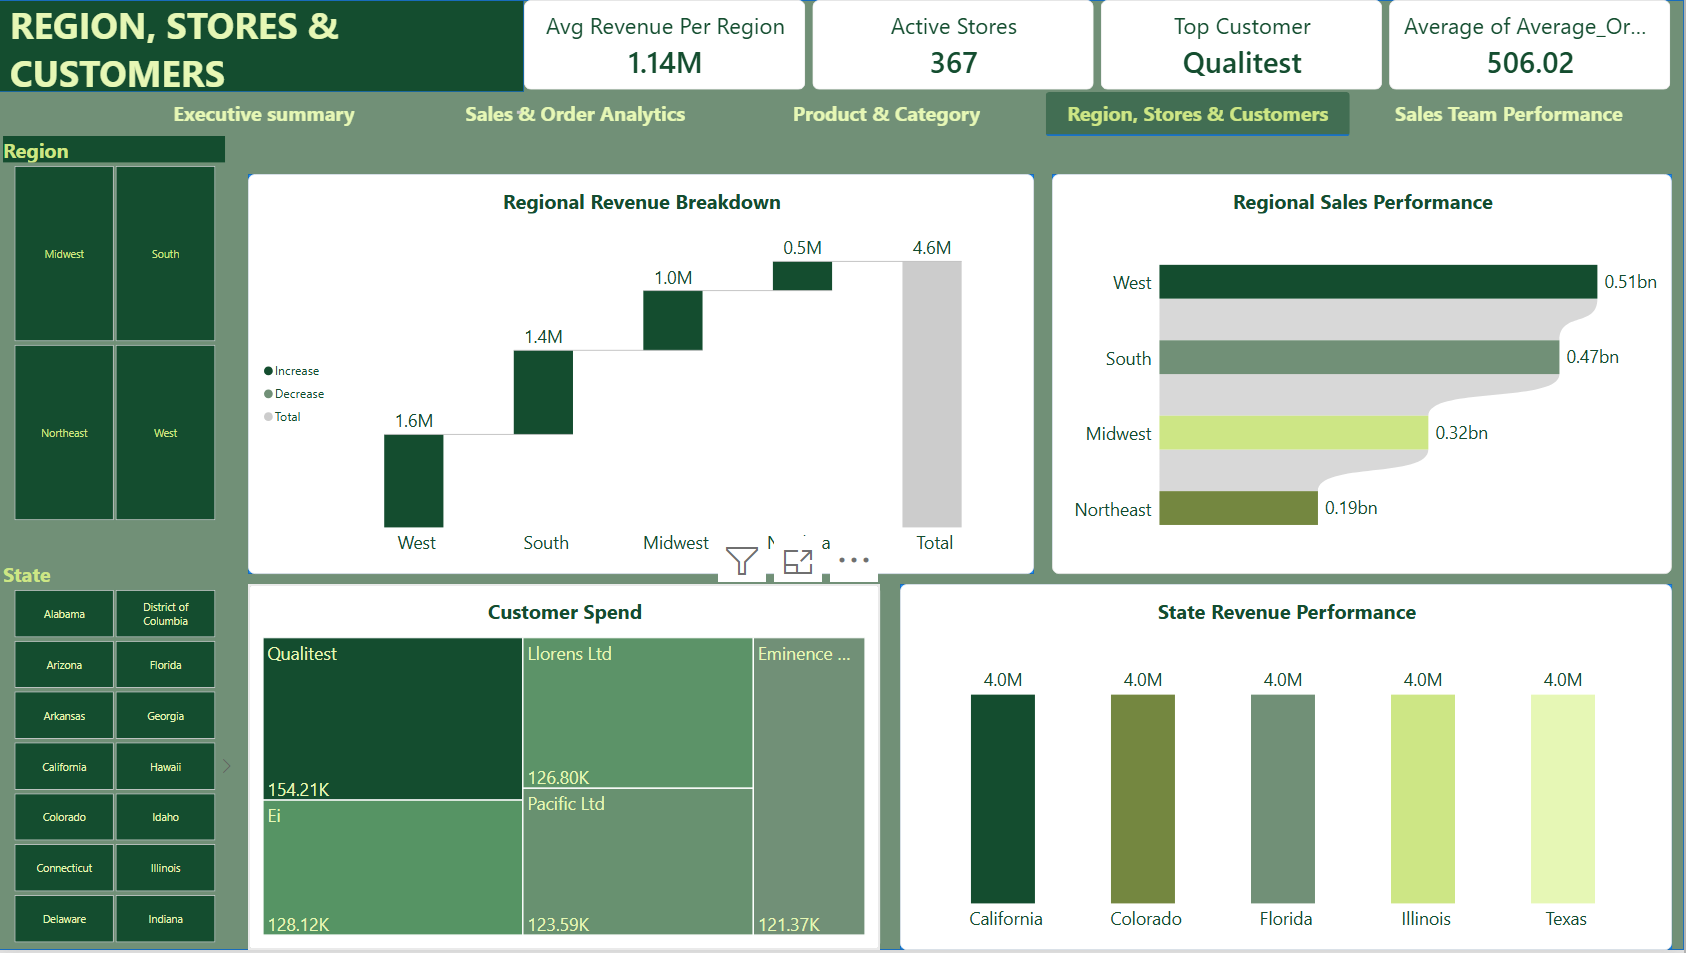

The dashboard page shown, as its layout file describes it:
{"tool":"powerbi","page":{"name":"Region, Stores & Customers","canvas":[1920,1080],"ordinal":3},"visuals":[{"type":"shape","box":[0,0,1920,1080.6],"z":0},{"type":"shape","box":[286.6,197.9,894,455],"z":1000},{"type":"shape","box":[1028.1,664.8,878.4,415.2],"z":2000},{"type":"shape","box":[1201.1,197.9,705.2,439.1],"z":3000},{"type":"shape","box":[287.5,672.8,718.7,399.3],"z":4000},{"type":"cardVisual","fields":{"Data":["Query1.Avg Revenue Per Region","Query1.Active Stores","Query1.Top Customer","Avg(Query1.Average_Order_Value)"]},"box":[473.2,0,1433.2,102.4],"z":5000},{"type":"textbox","title":"  REGION,STORES & CUSTOMERS","box":[0,15.9,577.8,61.4],"z":6000},{"type":"slicer","fields":{"Values":["Query3.Region"]},"box":[0,197.9,268.4,418.6],"z":7000},{"type":"slicer","fields":{"Values":["oyinkansola region_usa.State"]},"box":[0,673.4,268.4,400.4],"z":8000},{"type":"waterfallChart","title":"Regional Revenue Breakdown","fields":{"Category":["oyinkansola region_usa.Region"],"Y":["oyinkansola customer_usa.Total Revenue"]},"box":[286.6,197.9,894,455],"z":9000},{"type":"clusteredColumnChart","title":"State Revenue Performance","fields":{"Category":["oyinkansola store_sales_usa.State"],"Y":["CountNonNull(Query1.Total_Revenue)"]},"box":[1028.2,664.3,878.1,416.3],"z":10000},{"type":"treemap","title":"Customer Spend","fields":{"Group":["oyinkansola customer_usa.Customer Names"],"Values":["oyinkansola customer_usa.Total Revenue"]},"box":[286.6,664.3,718.9,416.3],"z":11000},{"type":"barChart","title":"Regional Sales Performance","fields":{"Category":["Query10.Region"],"Y":["Sum(Query3.Total_Revenue)"]},"box":[1201.1,197.9,705.2,455],"z":12000},{"type":"pageNavigator","box":[131.9,104.6,1765.3,50],"z":13000}]}

Visuals, with their boxes in screenshot pixels (x1, y1, x2, y2), scaled from the page's 1920x1080 canvas onto the 1687x953 screenshot:
shape: box(0, 0, 1686, 952)
shape: box(252, 175, 1037, 576)
shape: box(903, 587, 1675, 952)
shape: box(1055, 175, 1675, 562)
shape: box(253, 594, 884, 946)
cardVisual - Query1.Avg Revenue Per Region x Query1.Active Stores: box(416, 0, 1675, 90)
"  REGION,STORES & CUSTOMERS" textbox: box(0, 14, 508, 68)
slicer - Query3.Region: box(0, 175, 236, 544)
slicer - oyinkansola region_usa.State: box(0, 594, 236, 948)
"Regional Revenue Breakdown" waterfallChart: box(252, 175, 1037, 576)
"State Revenue Performance" clusteredColumnChart: box(903, 586, 1675, 952)
"Customer Spend" treemap: box(252, 586, 883, 952)
"Regional Sales Performance" barChart: box(1055, 175, 1675, 576)
pageNavigator: box(116, 92, 1667, 136)
